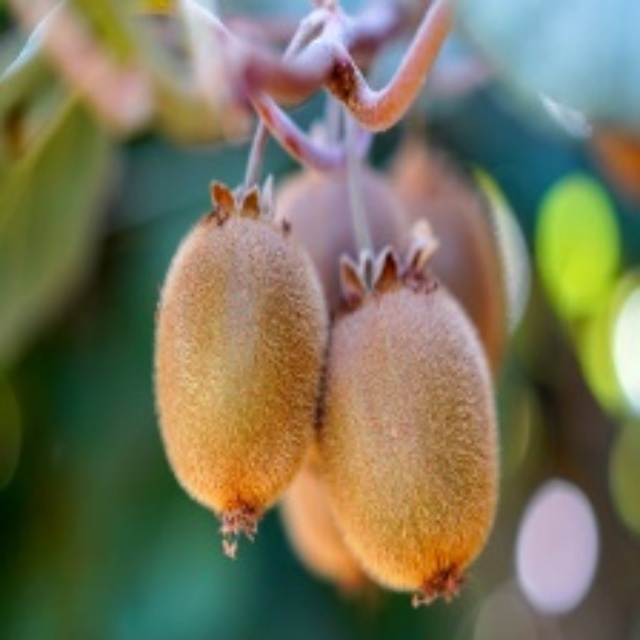kiwi: (145, 210, 349, 551), (315, 286, 509, 609)
